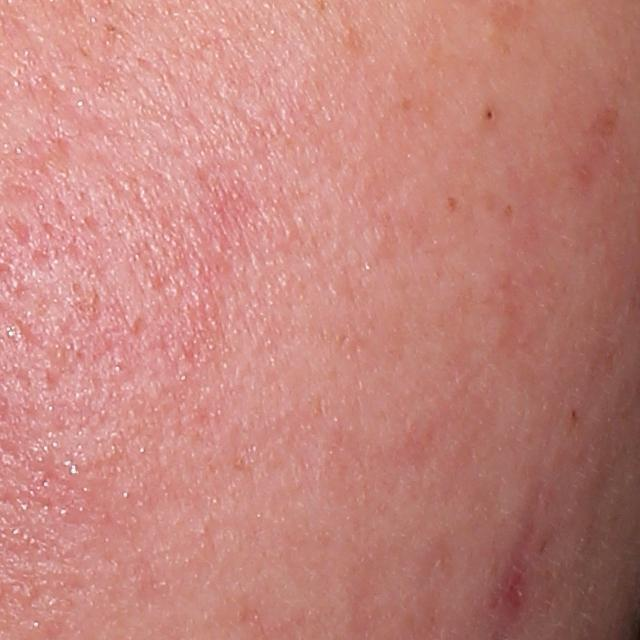comedo: (477, 102, 501, 126)
melasma: (398, 92, 414, 110), (447, 194, 460, 215)
